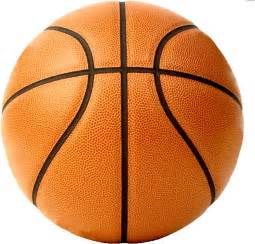basketball: (1, 1, 248, 244)
